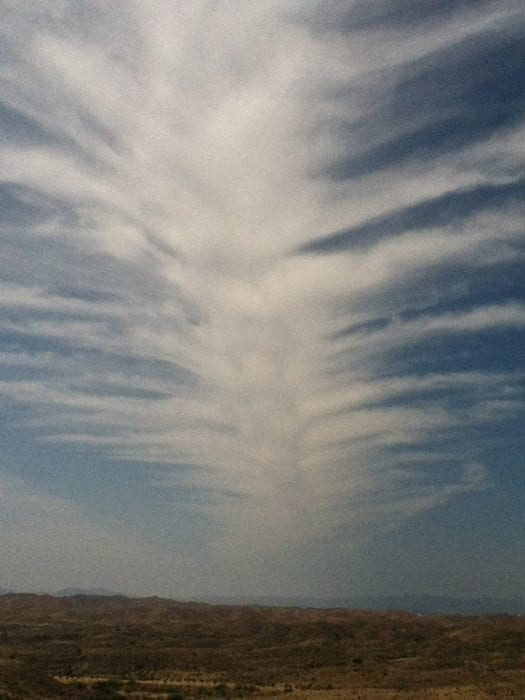Cirrus: (6, 4, 518, 570)
